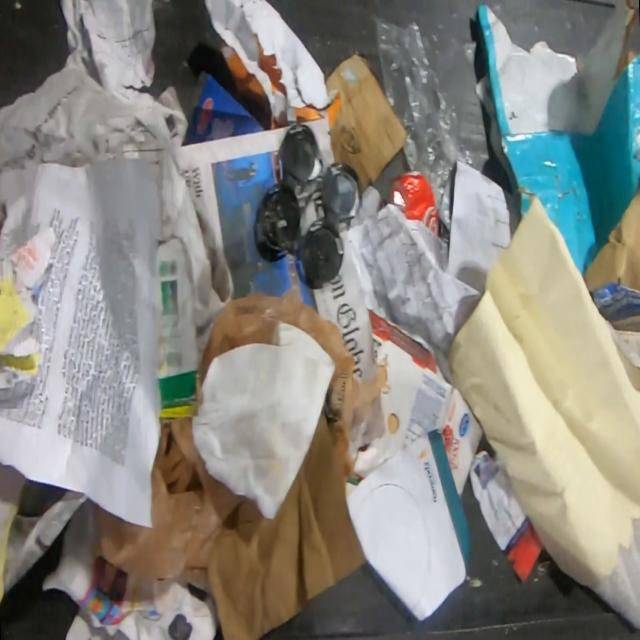cardboard: (180, 373, 369, 640), (475, 0, 640, 294), (354, 307, 483, 497), (325, 51, 407, 198)
metal: (386, 171, 440, 237)
rigid_plastic: (254, 122, 360, 289)
soft_plastic: (98, 285, 388, 580), (364, 13, 492, 240)
